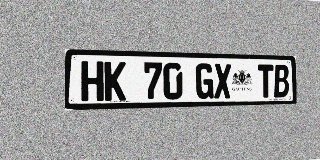0: (163, 63, 182, 100)
7: (143, 62, 162, 100)
B: (274, 65, 289, 97)
G: (196, 63, 213, 99)
H: (81, 61, 104, 101)
K: (104, 61, 126, 101)
T: (258, 64, 273, 98)
X: (214, 64, 231, 99)
